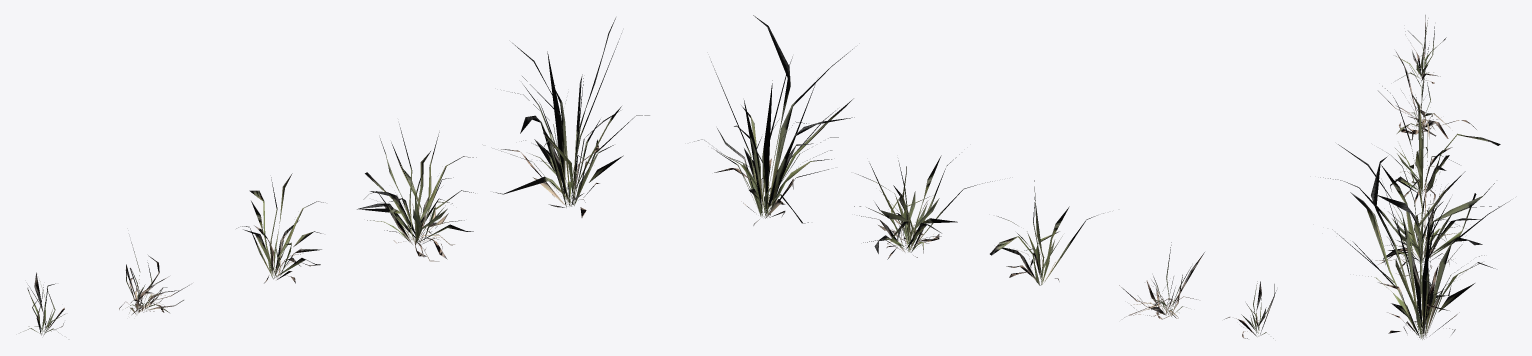
File: grass.glb
The picture shows the model from 3 angles, left to right: view 1: azimuth 30°, elevation 25°; view 2: azimuth 150°, elevation 25°; view 3: azimuth 270°, elevation 25°; orthographic projection. The views are drawn at different scales.
Visible parts, largest first — view 1: grass_medium_02_e, grass_medium_02_d, grass_medium_02_c, grass_medium_02_b, grass_medium_02_a; view 2: grass_medium_02_e, grass_medium_02_d, grass_medium_02_c, grass_medium_02_b, grass_medium_02_a; view 3: grass_medium_02_e, grass_medium_02_d, grass_medium_02_c, grass_medium_02_b, grass_medium_02_a.
Part boxes in pixels (left/top/right/bottom): grass_medium_02_e: left=493, top=18, right=649, bottom=217; grass_medium_02_d: left=357, top=124, right=476, bottom=261; grass_medium_02_c: left=236, top=173, right=325, bottom=283; grass_medium_02_b: left=119, top=242, right=189, bottom=314; grass_medium_02_a: left=20, top=272, right=64, bottom=335; grass_medium_02_e: left=694, top=15, right=854, bottom=225; grass_medium_02_d: left=854, top=154, right=992, bottom=259; grass_medium_02_c: left=990, top=180, right=1103, bottom=285; grass_medium_02_b: left=1119, top=242, right=1204, bottom=319; grass_medium_02_a: left=1224, top=281, right=1276, bottom=338; grass_medium_02_e: left=1332, top=144, right=1510, bottom=339; grass_medium_02_d: left=1320, top=152, right=1499, bottom=276; grass_medium_02_c: left=1382, top=86, right=1500, bottom=206; grass_medium_02_b: left=1378, top=45, right=1476, bottom=140; grass_medium_02_a: left=1396, top=15, right=1446, bottom=83.
Bounding box in the file's own units: 1.29 × 0.4038 × 0.3851.
Materials: 1 (1 with a texture image).
